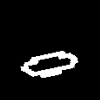chain: (21, 51, 77, 77)
